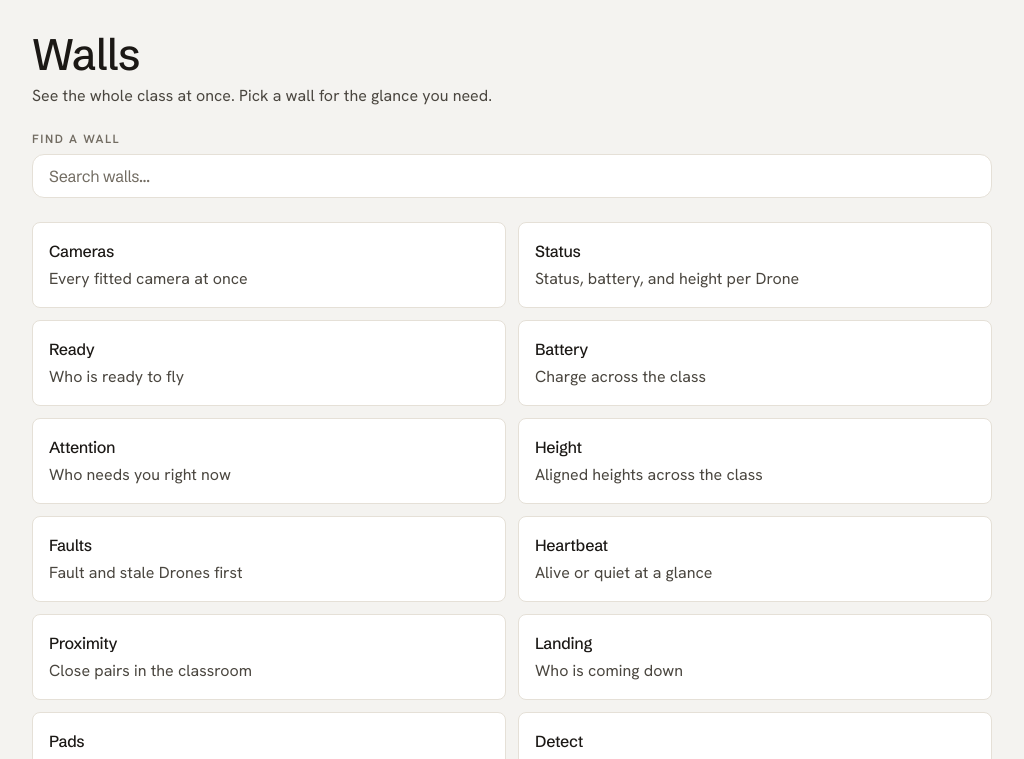
Test case: Walls hub › filters walls by search text
Type "battery" into the search field labelled "Find a wall".
click(512, 176); type("battery")  # box [32,154,992,198]
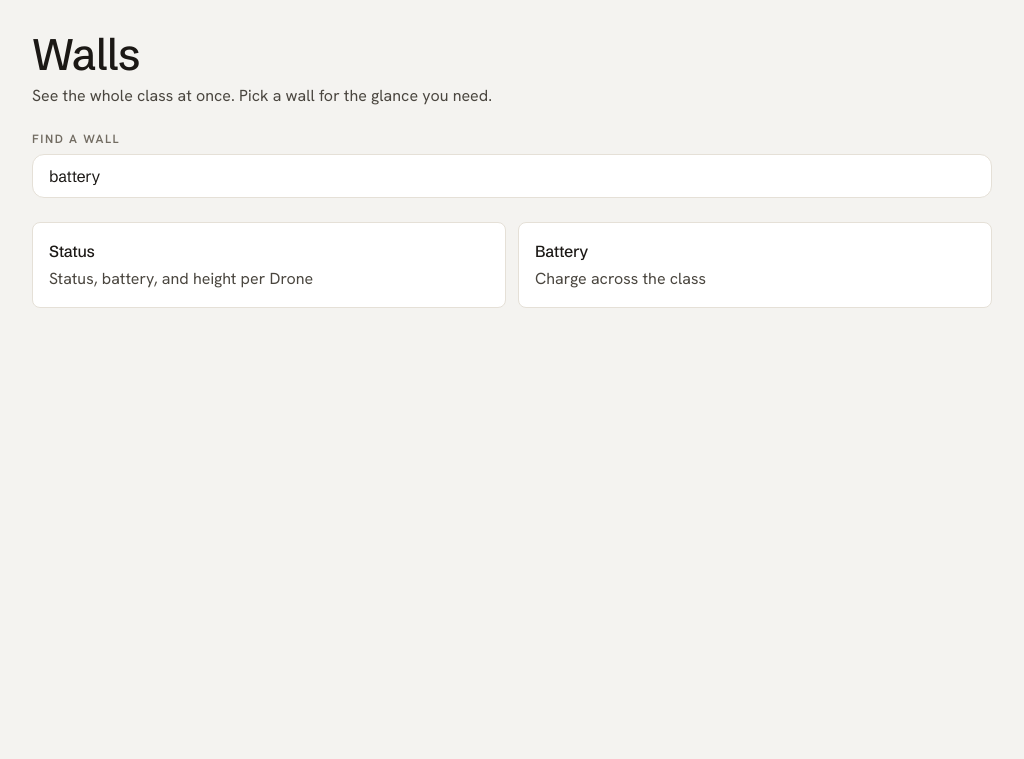
Expected: the link to "/walls/battery" is shown, [518,222,992,308]
Expected: the link to "/walls/cameras" is gone
